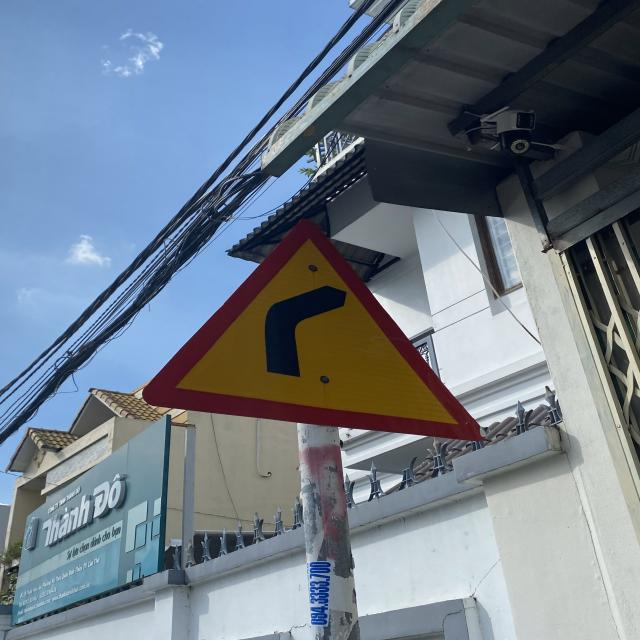Duong_Nguoi_Di_Bo_Cat_Ngang: (142, 222, 484, 441)
